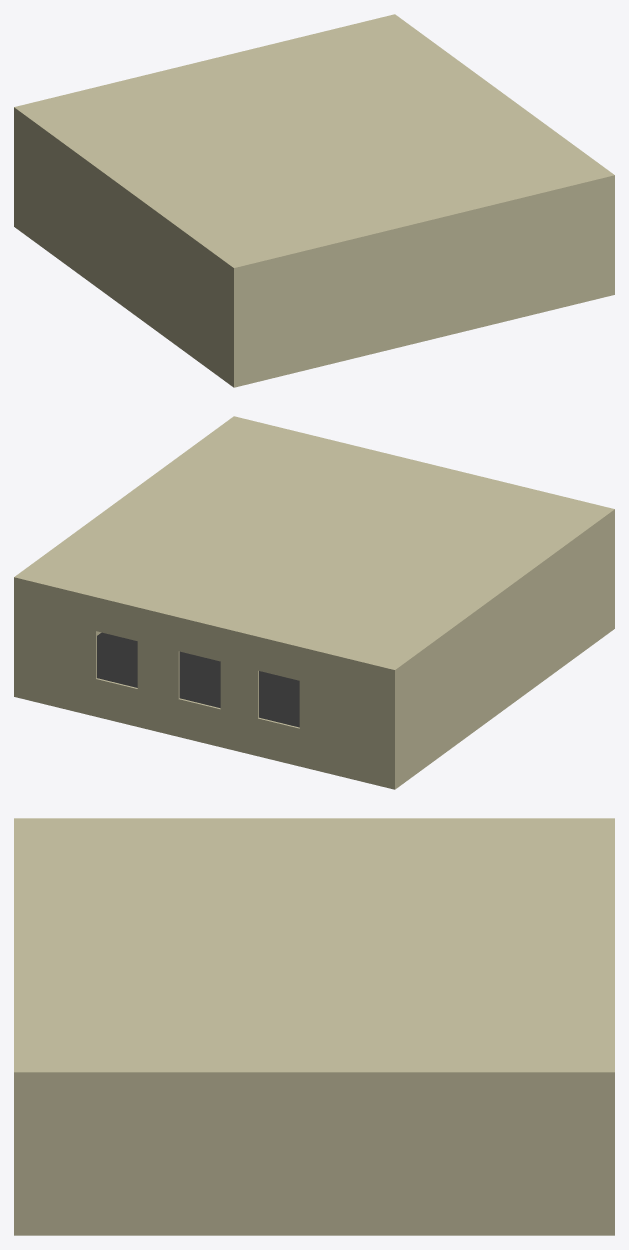
Rendered from Box_Brush7_StaticMesh.FBX.
3 views of the same model, one above another, from view 1: azimuth 30°, elevation 25°; view 2: azimuth 150°, elevation 25°; view 3: azimuth 270°, elevation 25° (orthographic). The views are drawn at different scales.
Visible parts, largest first — view 1: Box_Brush7_StaticMesh; view 2: Box_Brush7_StaticMesh; view 3: Box_Brush7_StaticMesh.
Part boxes in pixels (x1,y1,x2,y2): Box_Brush7_StaticMesh: [14, 14, 614, 387]; Box_Brush7_StaticMesh: [14, 416, 614, 789]; Box_Brush7_StaticMesh: [14, 818, 614, 1235].
Bounding box in the file's own units: 1000 × 1000 × 300.
